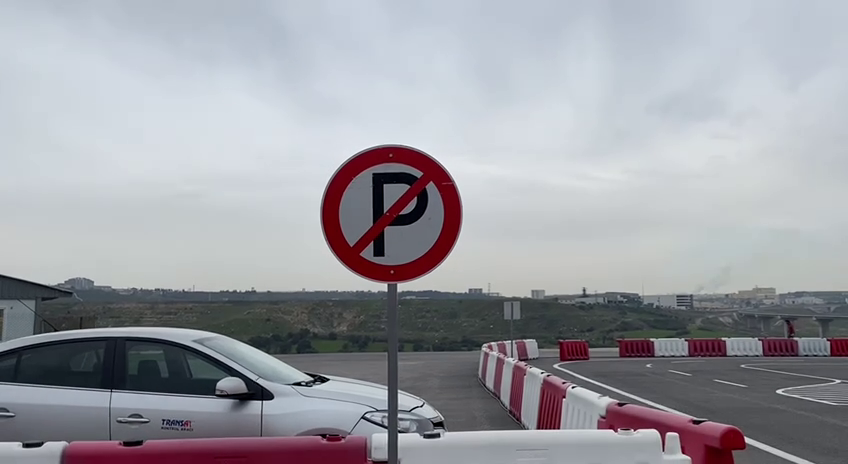noparking: (311, 137, 468, 291)
